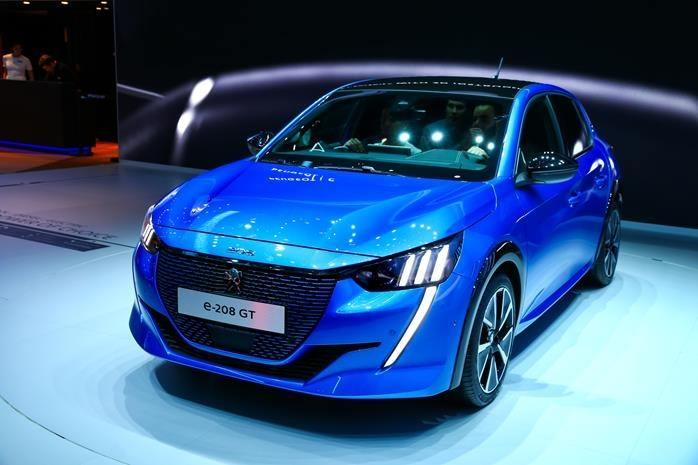windshield: (250, 85, 520, 182)
